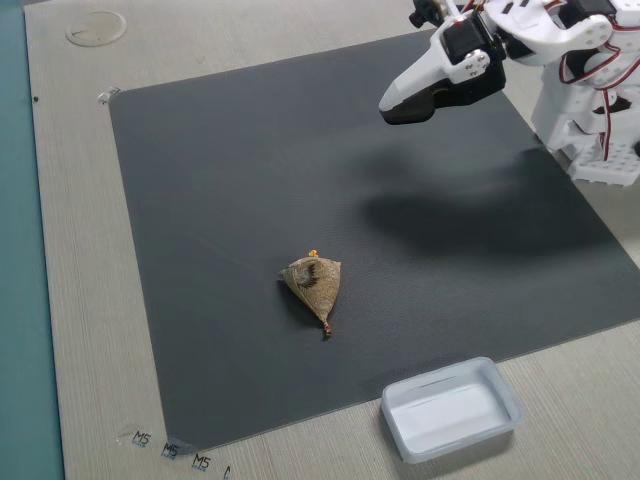objects: (369, 0, 500, 133)
